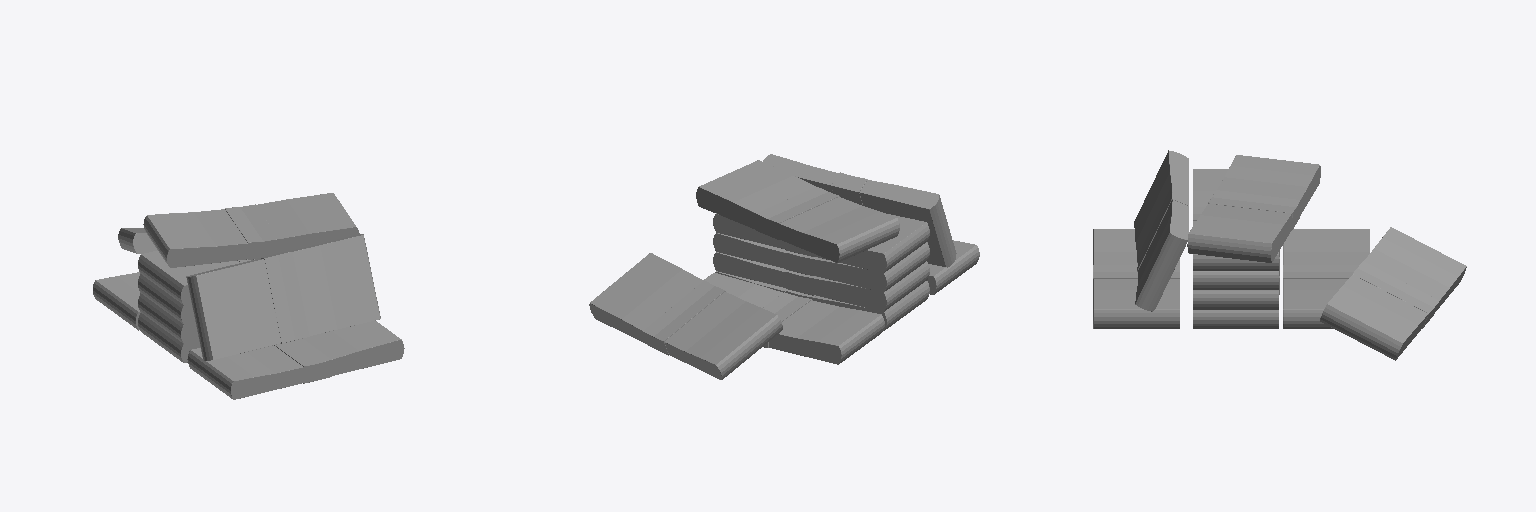
Rendered from person2.obj.
3 views of the same model, side by side, from view 1: azimuth 30°, elevation 25°; view 2: azimuth 150°, elevation 25°; view 3: azimuth 270°, elevation 25° (orthographic).
Visible parts, largest first — view 1: Box01, Box01_21, Objeto_Clonar_1_Box01_11, Objeto_Clonar_Box01_3, Objeto_Clonar_1_Box01_01, Objeto_Clonar_Box01_1, Objeto_Clonar_Box01_2, Objeto_Clonar_Box01_0, Box01_12; view 2: Box01_12, Box01_21, Objeto_Clonar_1_Box01_01, Box01, Objeto_Clonar_Box01_1, Objeto_Clonar_Box01_2, Objeto_Clonar_Box01_3, Objeto_Clonar_Box01_0, Objeto_Clonar_1_Box01_11; view 3: Box01_12, Box01_21, Objeto_Clonar_1_Box01_01, Box01, Objeto_Clonar_1_Box01_11, Objeto_Clonar_Box01_3, Objeto_Clonar_Box01_1, Objeto_Clonar_Box01_0, Objeto_Clonar_Box01_2.
Boxes of the visible parts, box(x1,y1,x2,y2) form: Box01: box(186, 234, 380, 360); Box01_21: box(143, 193, 359, 267); Objeto_Clonar_1_Box01_11: box(187, 321, 404, 399); Objeto_Clonar_Box01_3: box(138, 251, 254, 304); Objeto_Clonar_1_Box01_01: box(93, 272, 140, 330); Objeto_Clonar_Box01_1: box(138, 293, 198, 343); Objeto_Clonar_Box01_2: box(138, 274, 194, 324); Objeto_Clonar_Box01_0: box(138, 313, 200, 362); Box01_12: box(118, 228, 157, 253); Box01_12: box(589, 253, 782, 379); Box01_21: box(696, 160, 899, 262); Objeto_Clonar_1_Box01_01: box(704, 273, 884, 364); Box01: box(763, 154, 956, 267); Objeto_Clonar_Box01_1: box(713, 252, 929, 311); Objeto_Clonar_Box01_2: box(713, 233, 929, 291); Objeto_Clonar_Box01_3: box(713, 213, 929, 272); Objeto_Clonar_Box01_0: box(715, 271, 929, 330); Objeto_Clonar_1_Box01_11: box(927, 240, 979, 294); Box01_12: box(1320, 227, 1466, 360); Box01_21: box(1187, 155, 1320, 262); Objeto_Clonar_1_Box01_01: box(1283, 229, 1369, 328); Box01: box(1134, 150, 1188, 311); Objeto_Clonar_1_Box01_11: box(1093, 229, 1179, 328); Objeto_Clonar_Box01_3: box(1193, 169, 1278, 270); Objeto_Clonar_Box01_1: box(1193, 257, 1279, 309); Objeto_Clonar_Box01_0: box(1193, 276, 1279, 328); Objeto_Clonar_Box01_2: box(1193, 251, 1279, 289).
Size of the model in its own units: 1.91 by 0.7582 by 2.61.